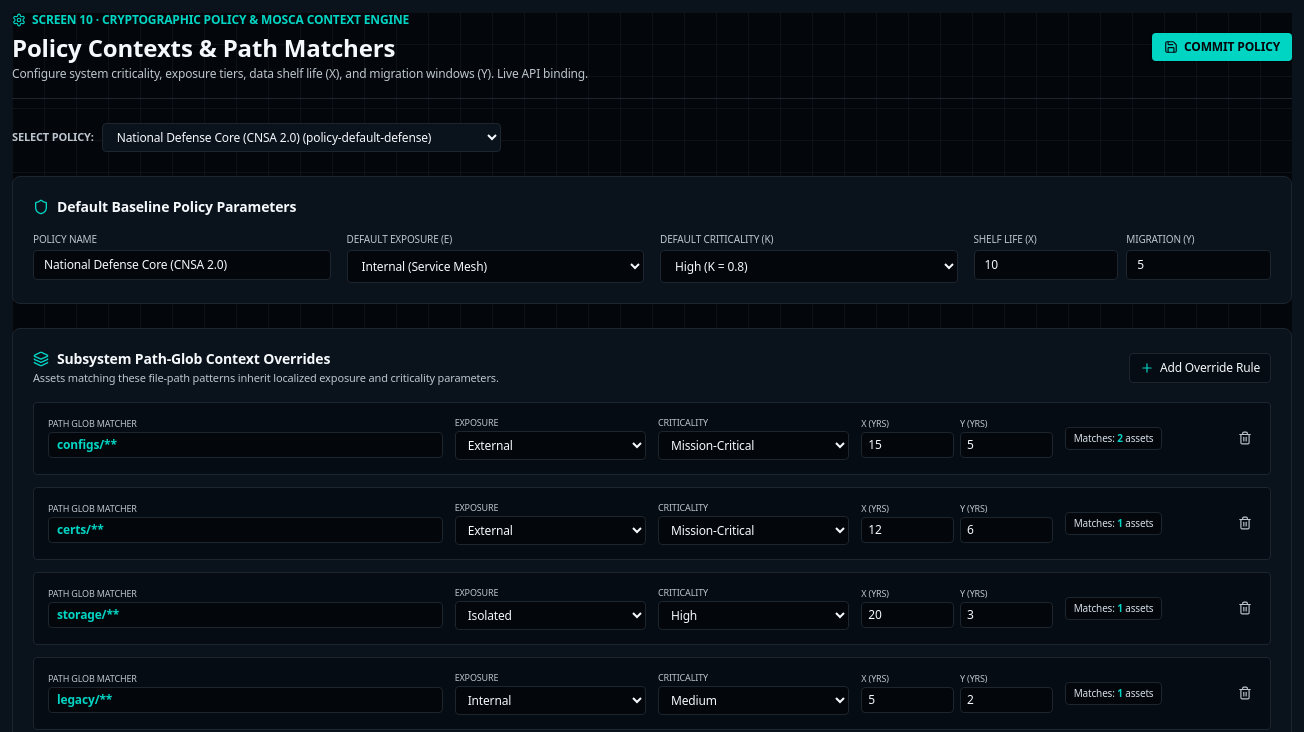
Test: SCR-10: Policy Editor Component › saves policy modifications when clicking commit button
Expected: the dropdown showing "National Defense Core" is shown, [102, 123, 501, 152]
Click the button "COMMIT POLICY".
click(1222, 47)  # box [1152, 33, 1292, 61]
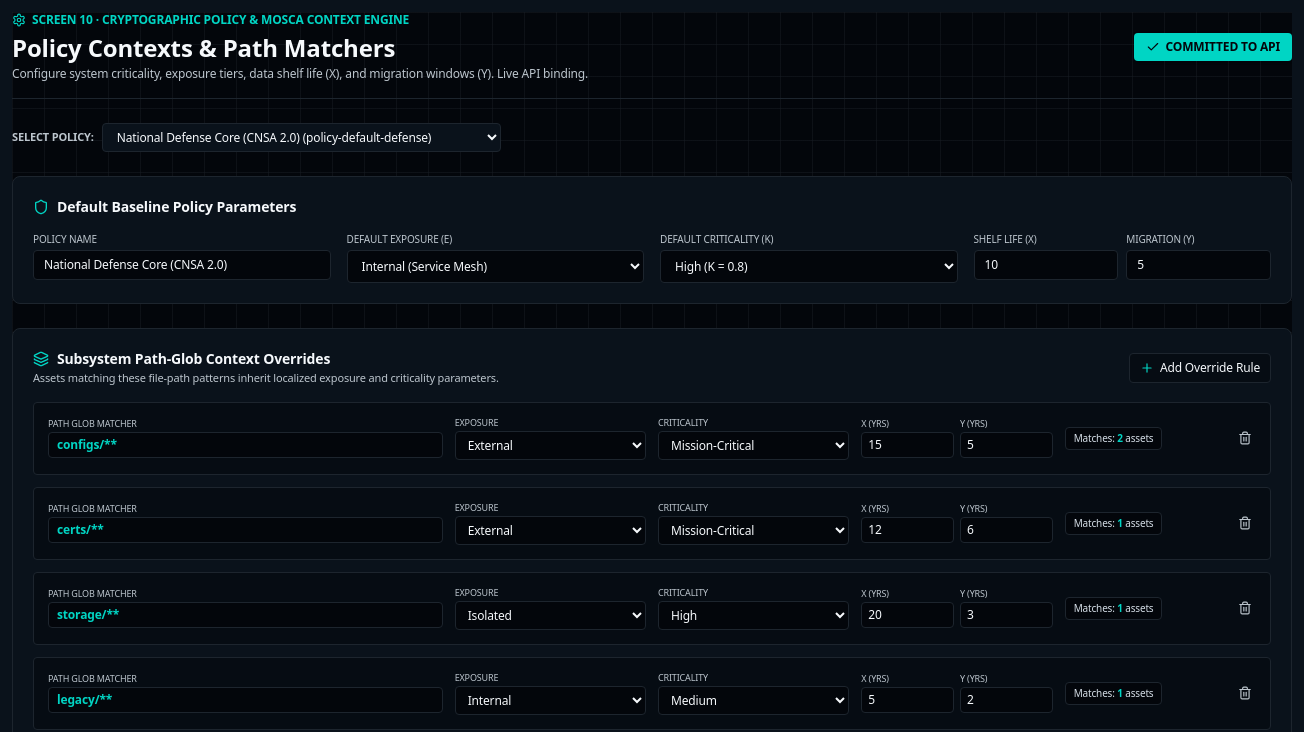
Now the text "COMMITTED TO API" is shown, box [1166, 39, 1280, 55]
